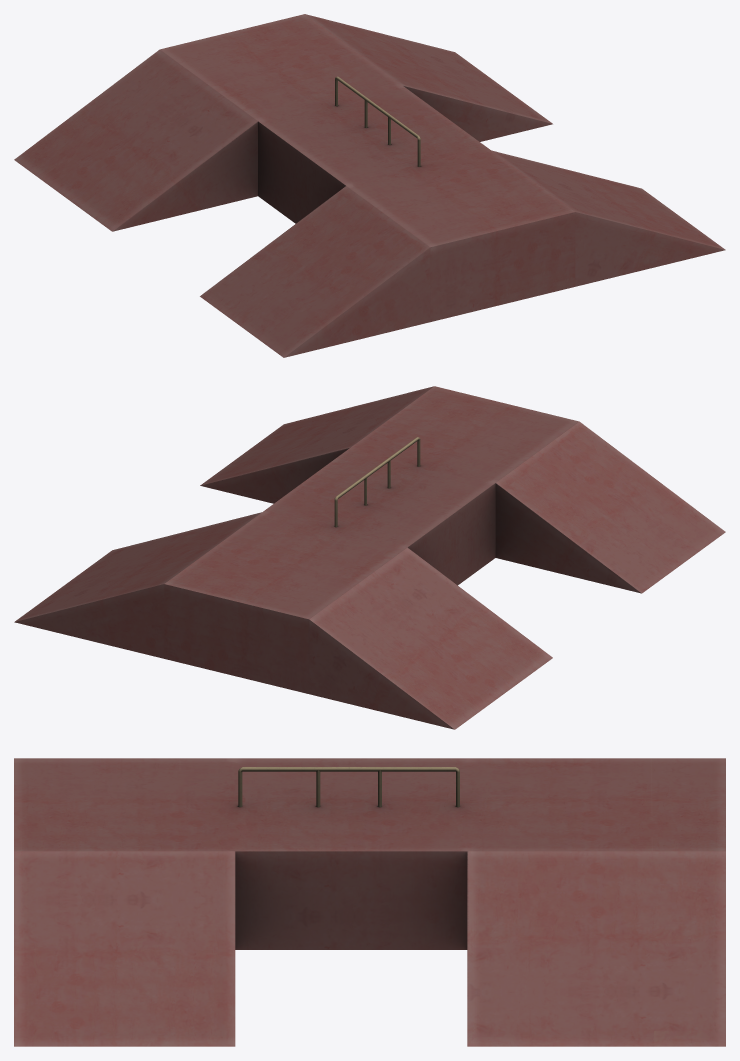
The model's file is Ramp06.fbx.
The picture shows the model from 3 angles, top to bottom: view 1: azimuth 30°, elevation 25°; view 2: azimuth 150°, elevation 25°; view 3: azimuth 270°, elevation 25°; orthographic projection. The views are drawn at different scales.
Visible parts, largest first — view 1: Ramp06; view 2: Ramp06; view 3: Ramp06.
Part boxes in pixels (left/top/right/bottom): Ramp06: left=14, top=14, right=725, bottom=357; Ramp06: left=14, top=386, right=725, bottom=729; Ramp06: left=14, top=758, right=725, bottom=1046.
Bounding box in the file's own units: 6 × 1.35 × 6.36.
